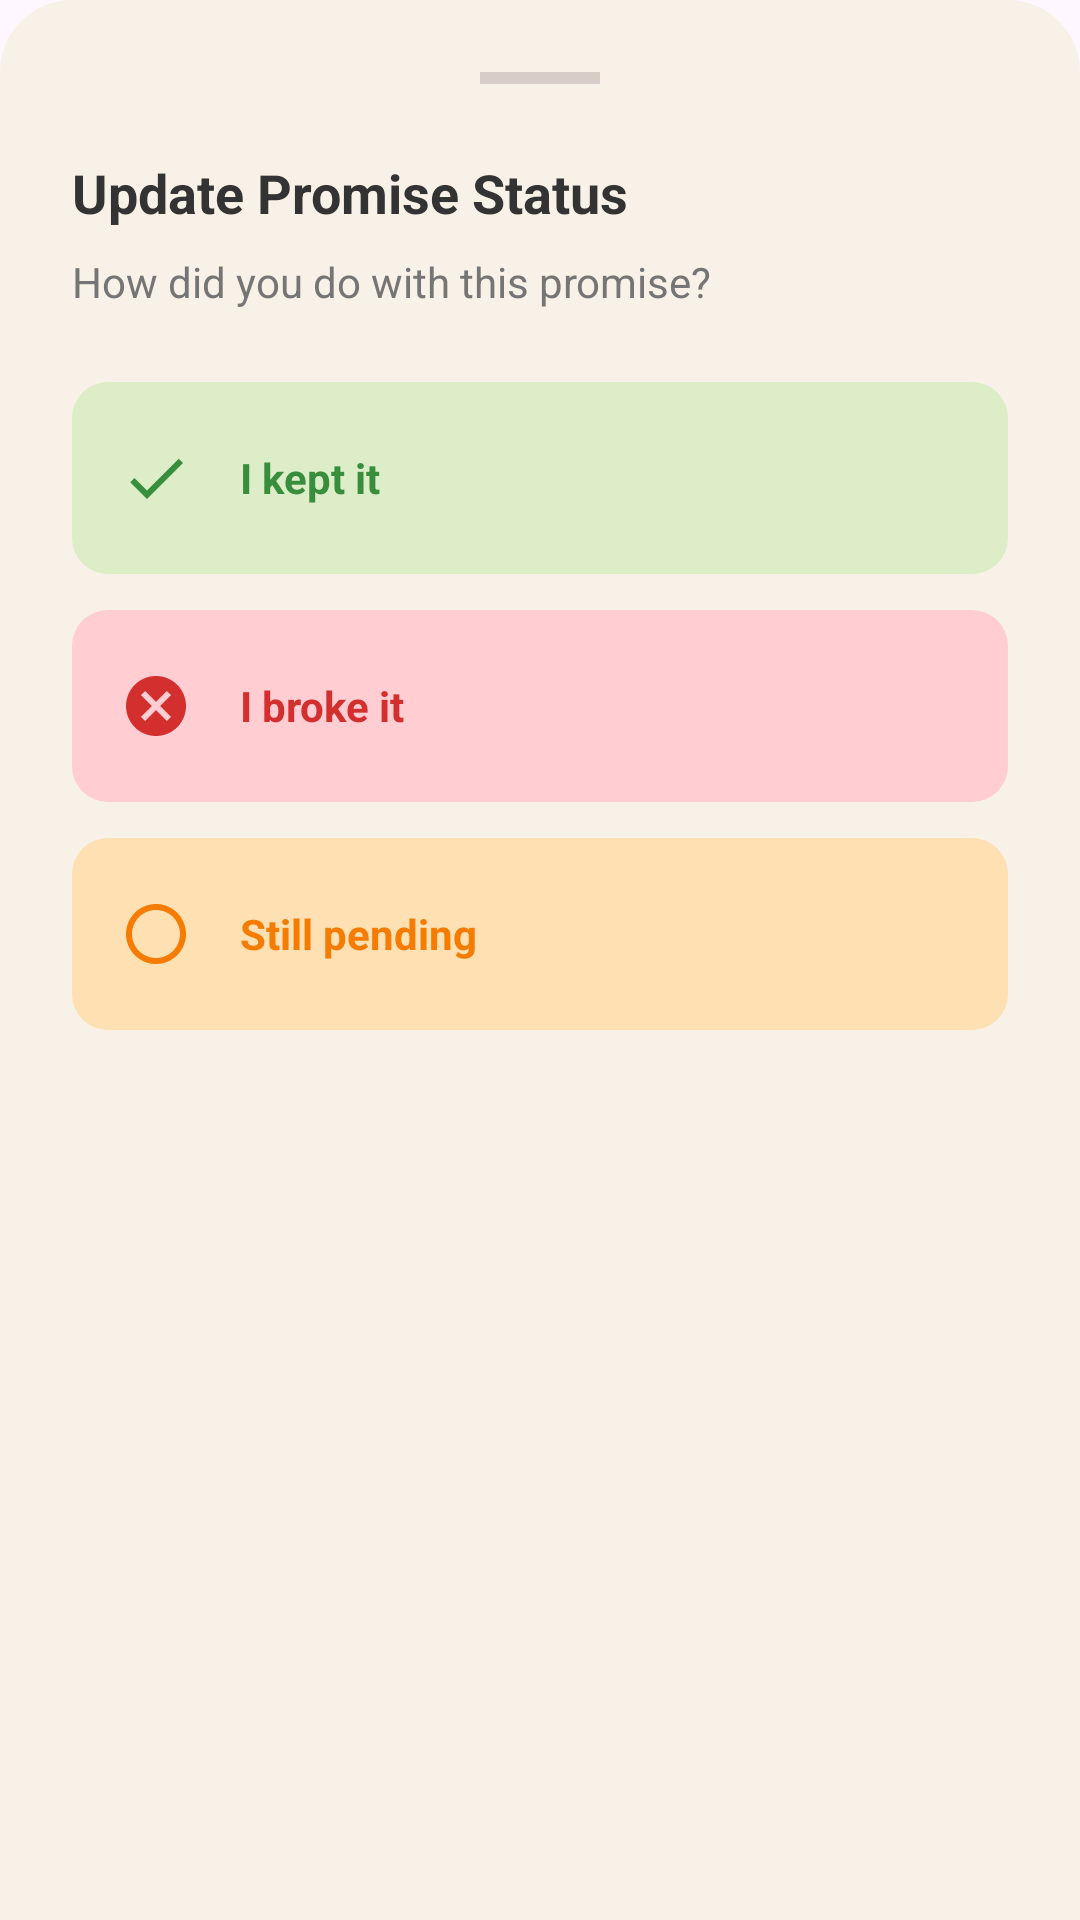

Named icons in this screenshot (1080x1920) and their bounding boxes, (x1, y1, x2, y2):
check: (130, 459, 183, 499)
promise broken: (126, 676, 186, 736)
